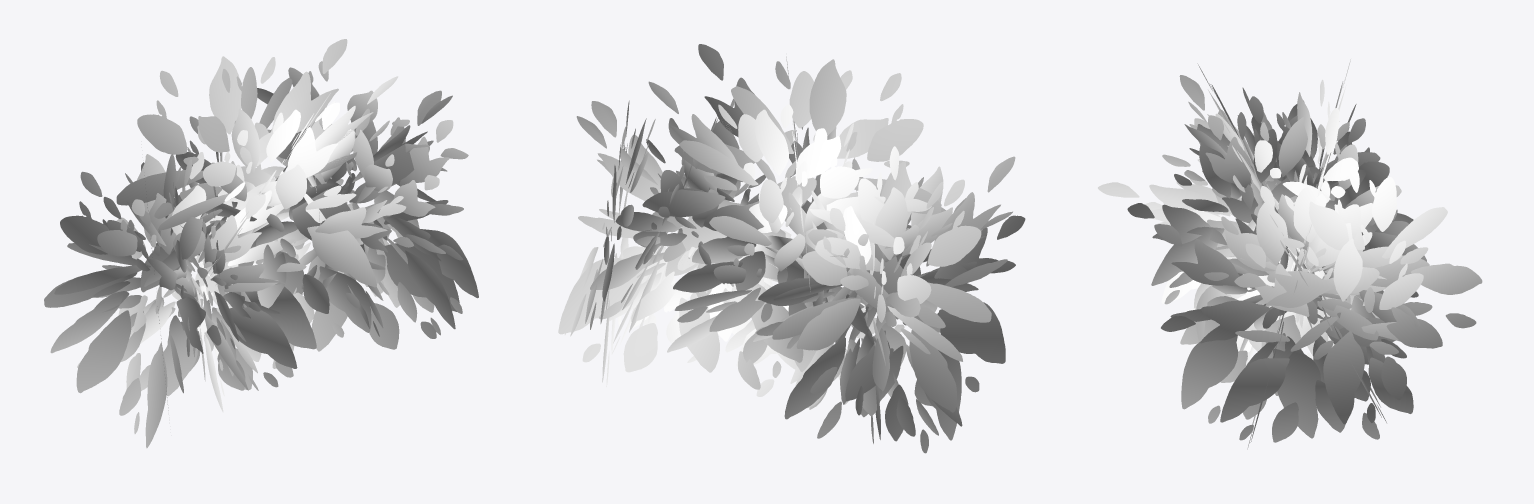
Rendered from leaf_01_test.fbx.
3 views of the same model, side by side, from view 1: azimuth 30°, elevation 25°; view 2: azimuth 150°, elevation 25°; view 3: azimuth 270°, elevation 25° (orthographic). The views are drawn at different scales.
Visible parts, largest first — view 1: leaf_01; view 2: leaf_01; view 3: leaf_01.
Part boxes in pixels (box(x1,y1,x2,y2)): leaf_01: box(44, 39, 478, 448); leaf_01: box(558, 44, 1025, 453); leaf_01: box(1098, 59, 1482, 449).
Bounding box in the file's own units: 329 × 311 × 309.
